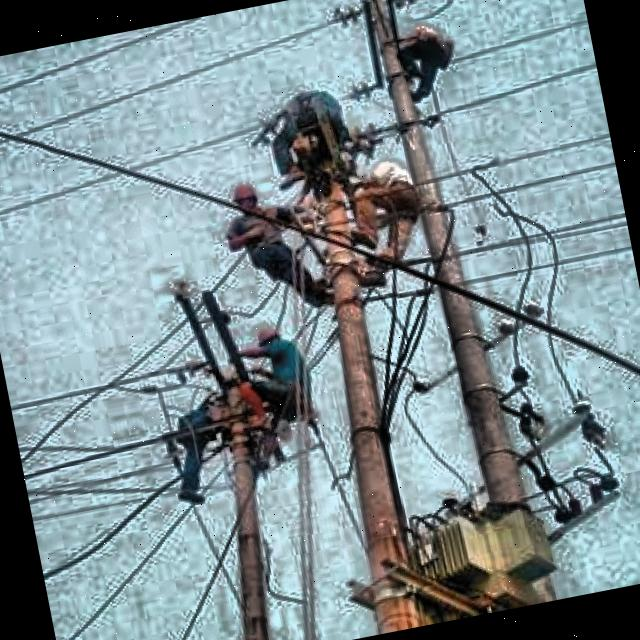helmet: (229, 180, 262, 219), (254, 324, 280, 356)
